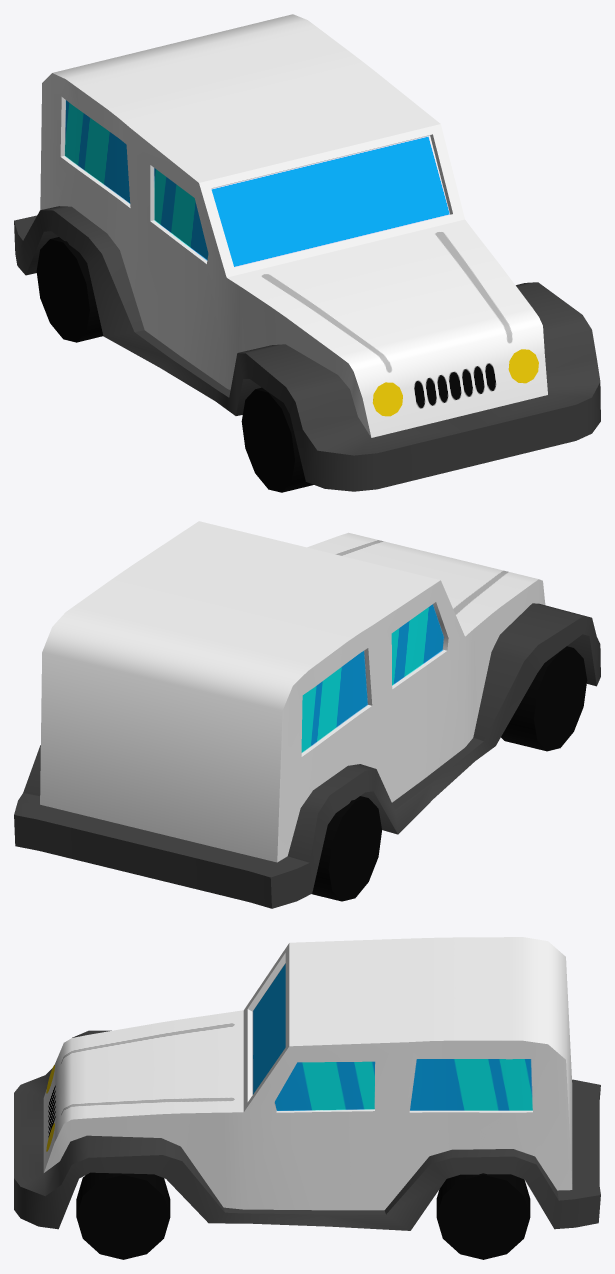
The model's file is Car3.fbx.
3 renders of one model, top to bottom at view 1: azimuth 30°, elevation 25°; view 2: azimuth 150°, elevation 25°; view 3: azimuth 270°, elevation 25°, orthographic. The views are drawn at different scales.
Visible parts, largest first — view 1: Car3; view 2: Car3; view 3: Car3.
Boxes of the visible parts, left/top/right/bottom form: Car3: left=14, top=14, right=600, bottom=492; Car3: left=14, top=521, right=600, bottom=908; Car3: left=14, top=937, right=600, bottom=1259.
Size of the model in its own units: 447 by 338 by 864.
Materials: 2 (2 with a texture image).
